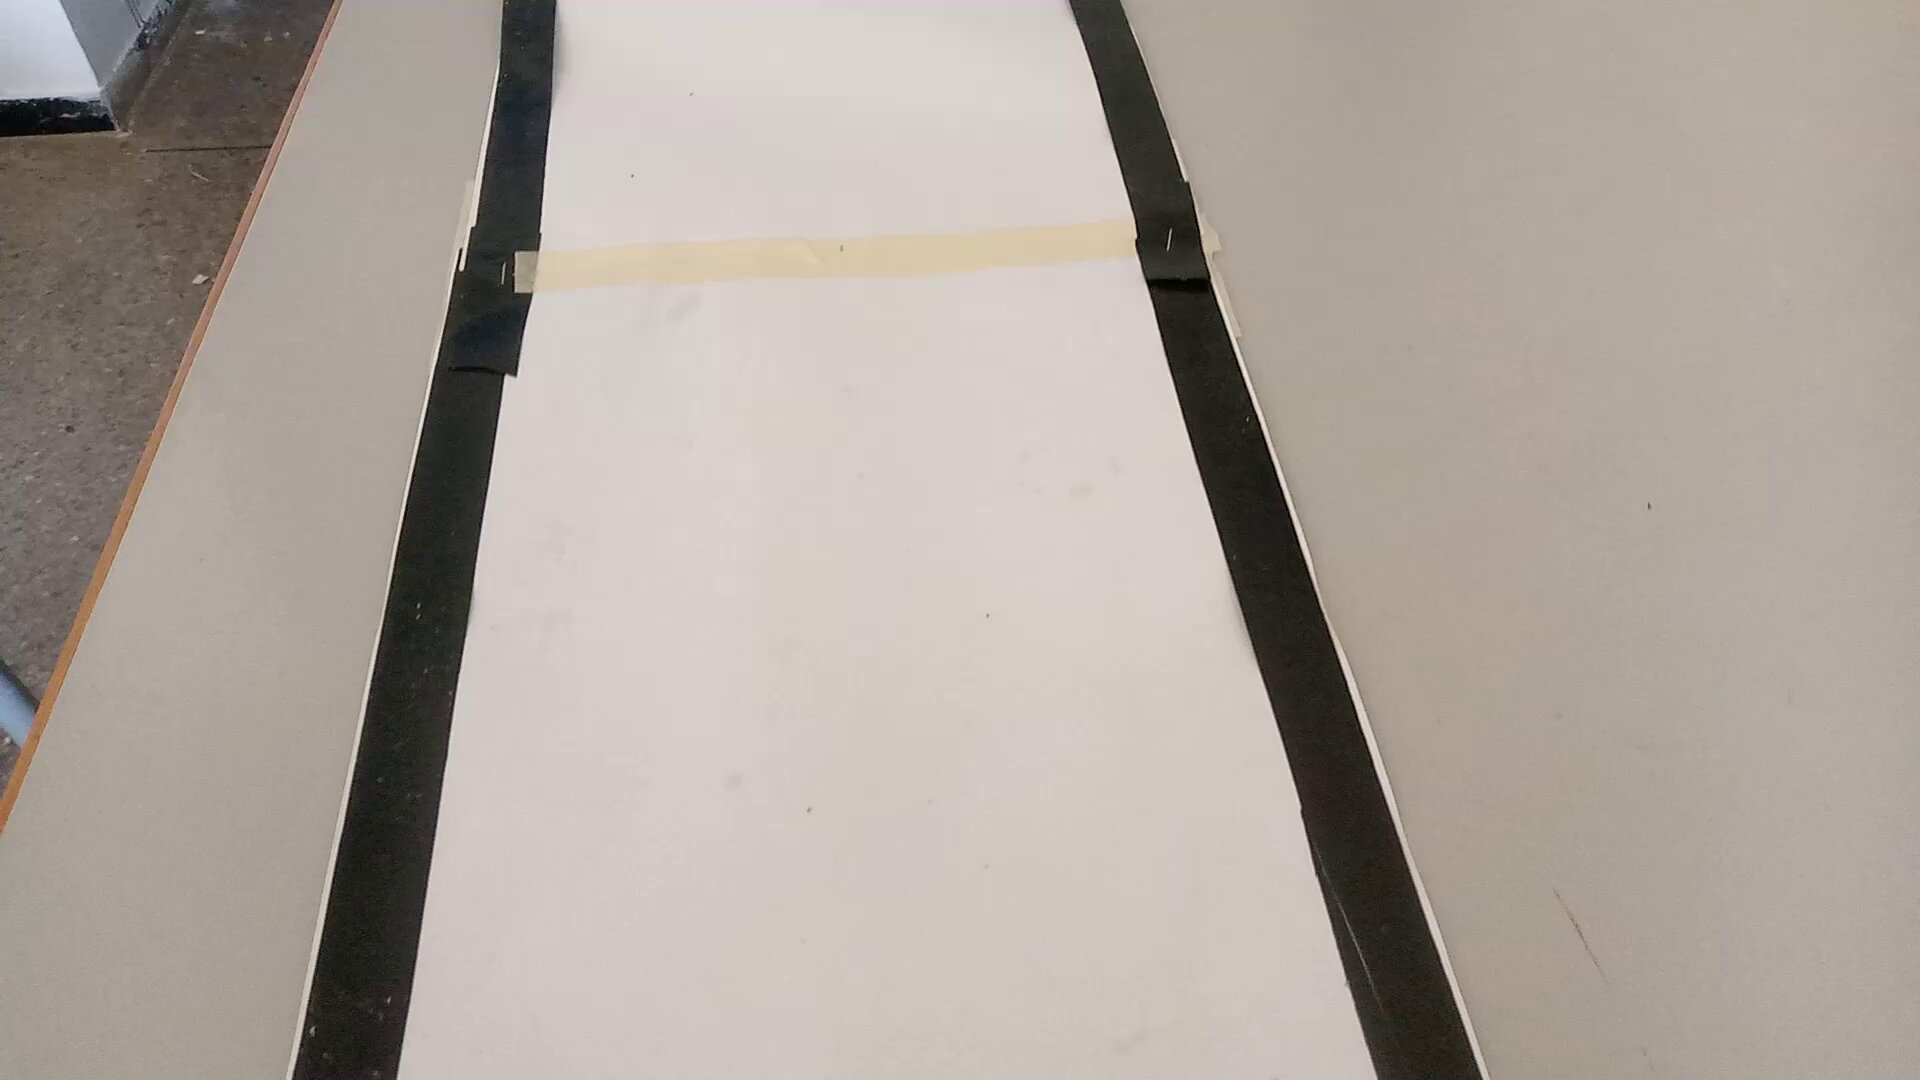forward: (284, 724, 1458, 1018), (347, 442, 1356, 661)
right: (396, 95, 1280, 386)
